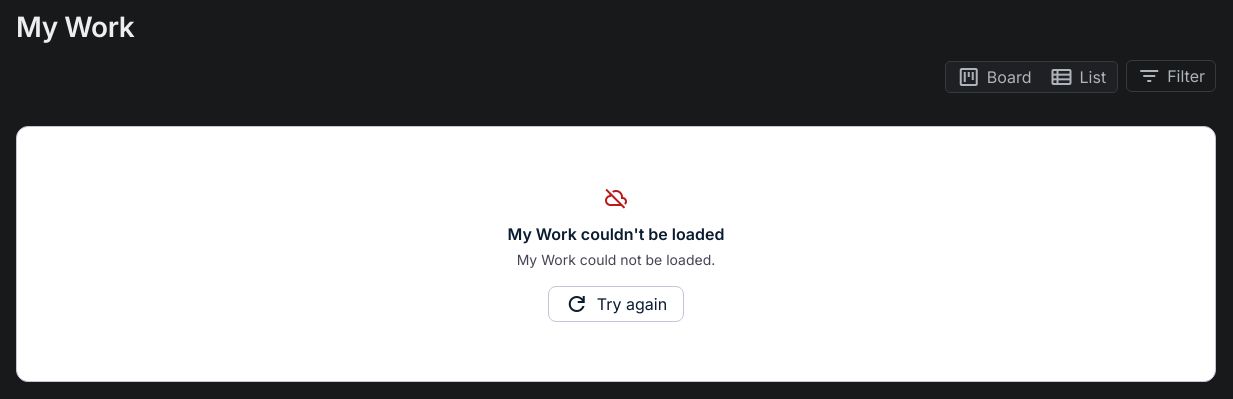
My Work List View — loading / empty / error › reloads the personal endpoint on retry
Click the button "Try again".
click(616, 304)  # box [548, 286, 684, 322]
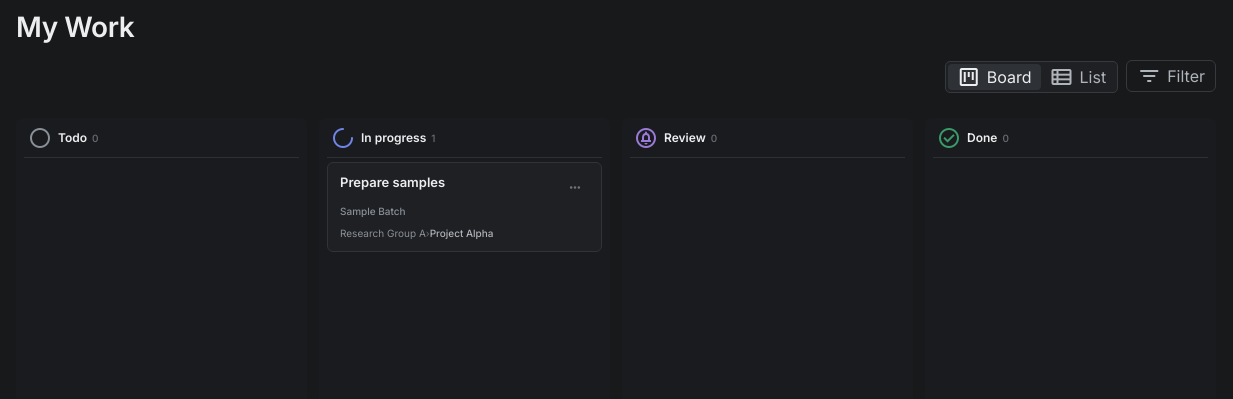
Now the heading "Prepare samples" is shown, box [340, 174, 445, 190]
